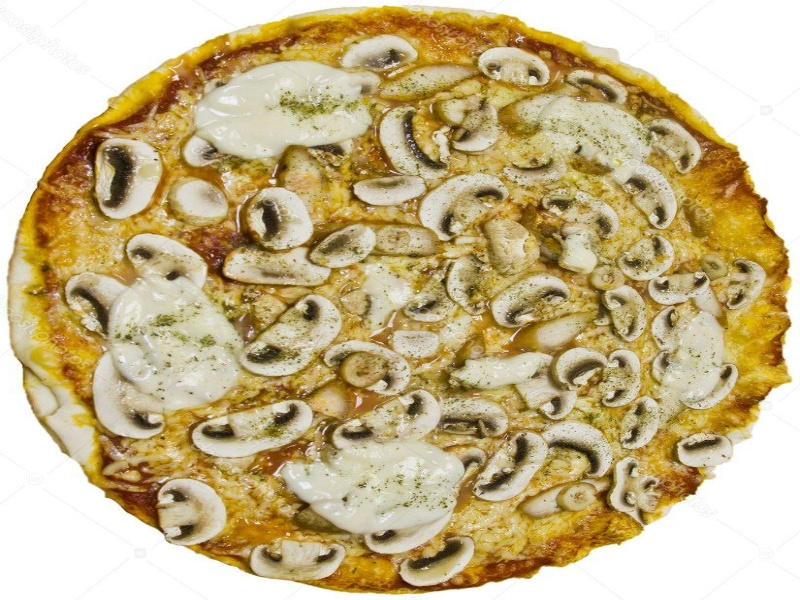champignon: (240, 291, 345, 384), (181, 396, 318, 462), (91, 349, 170, 447), (333, 389, 449, 451), (88, 132, 167, 223), (320, 336, 419, 408), (414, 170, 511, 241), (388, 528, 489, 589), (57, 261, 129, 345), (471, 427, 550, 503), (375, 103, 449, 182), (118, 230, 214, 290), (607, 159, 685, 231), (152, 477, 229, 549), (238, 186, 316, 254), (490, 270, 575, 332), (246, 535, 347, 584), (641, 116, 708, 178), (338, 33, 426, 76), (473, 44, 551, 91), (562, 66, 639, 111), (600, 285, 654, 346), (615, 234, 678, 282), (718, 256, 766, 315), (598, 346, 642, 410), (673, 430, 735, 469)
